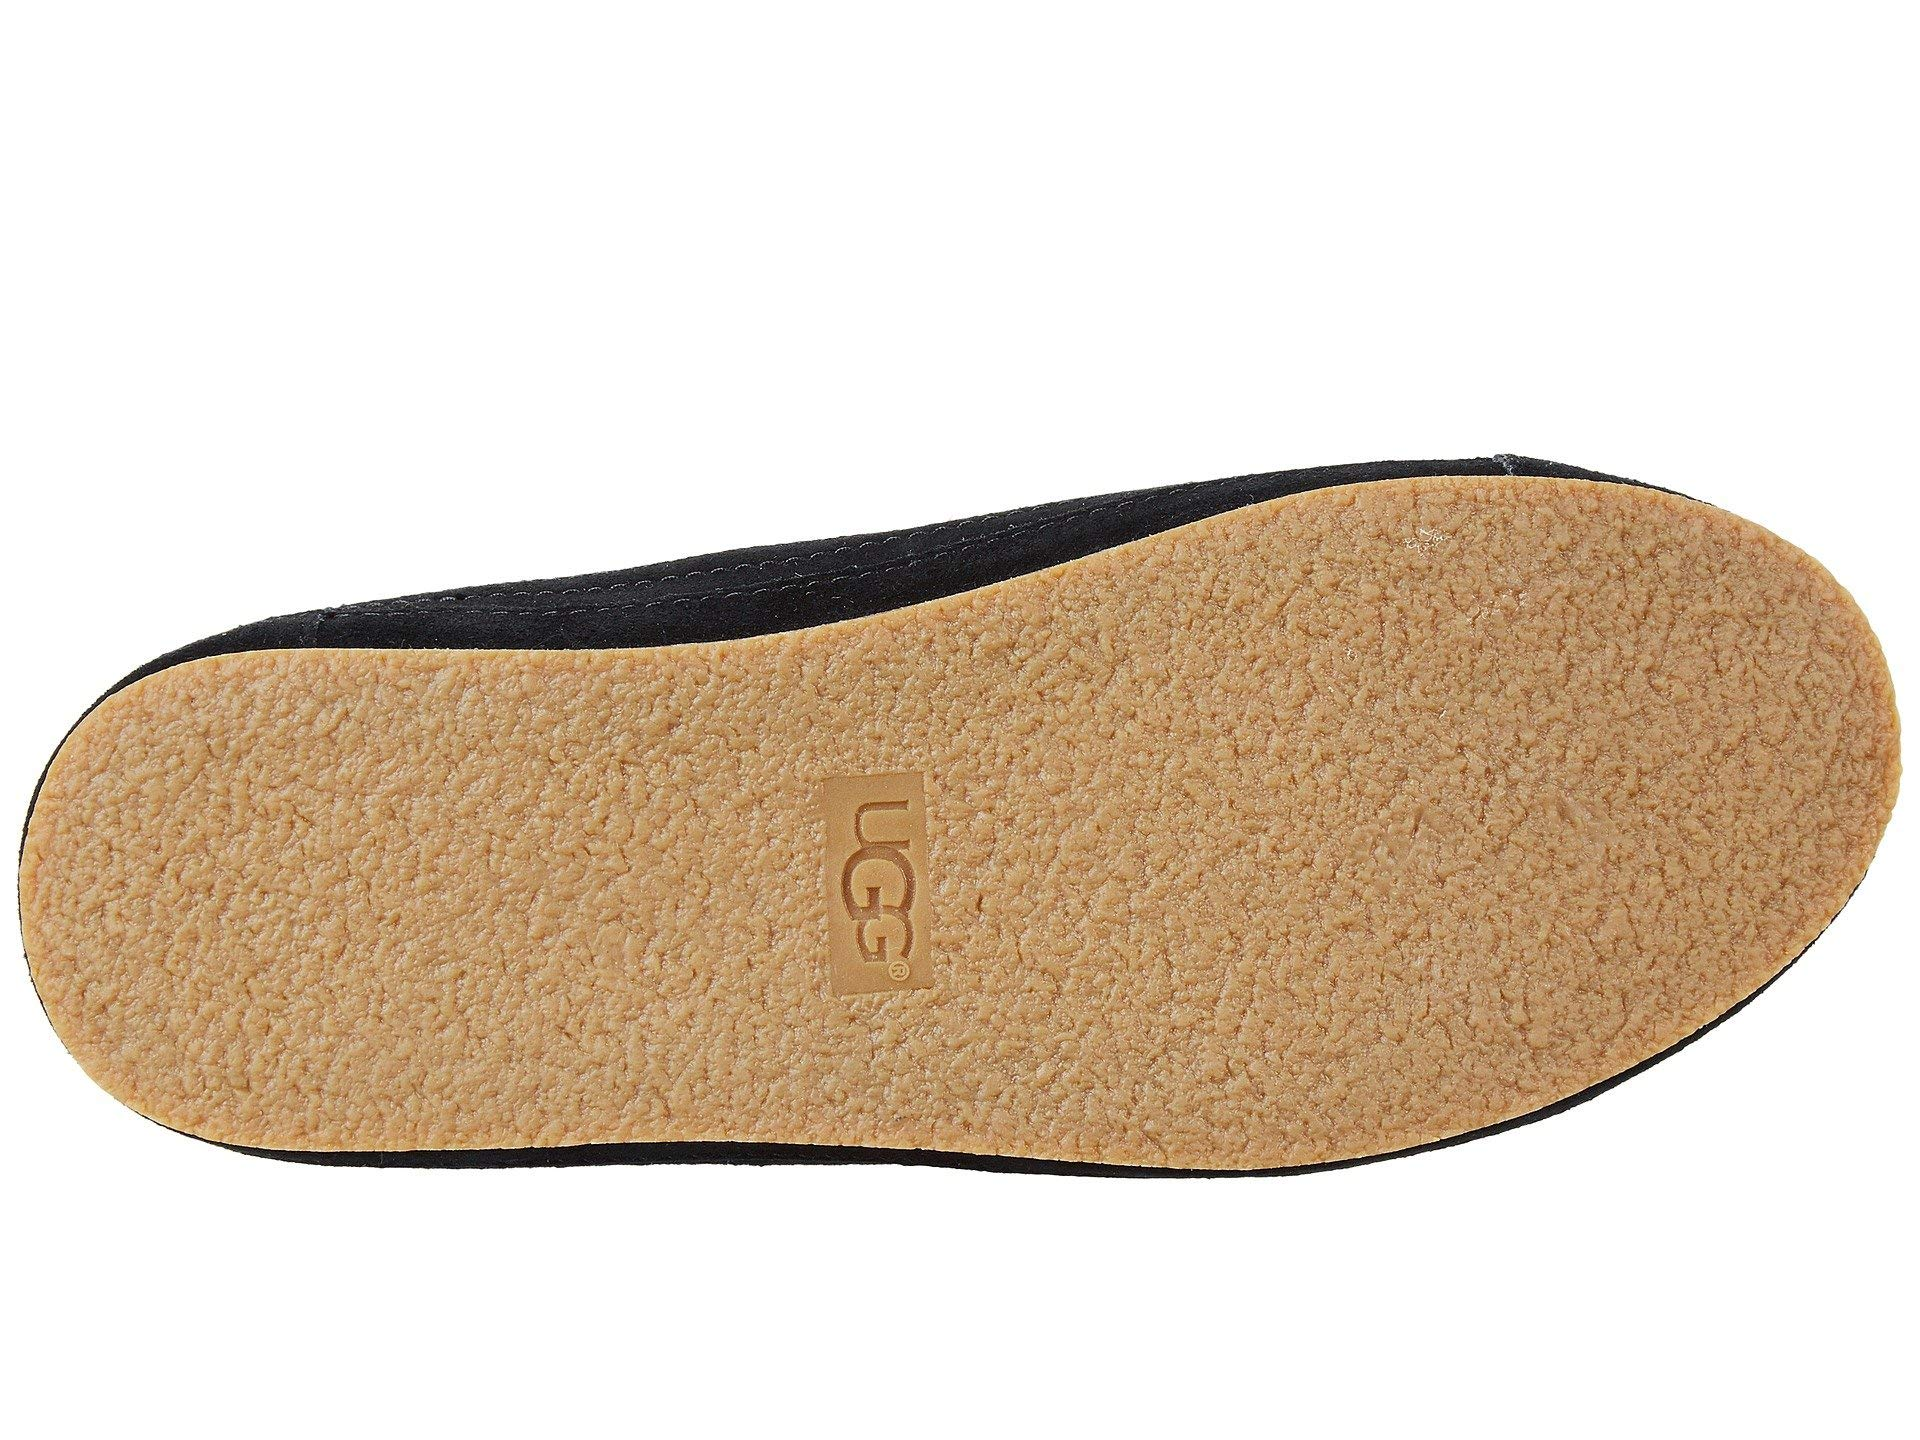circle: (794, 768, 943, 1004)
other: (957, 635, 1819, 959)
quad: (794, 768, 943, 1004)
text: (794, 768, 943, 1004)
